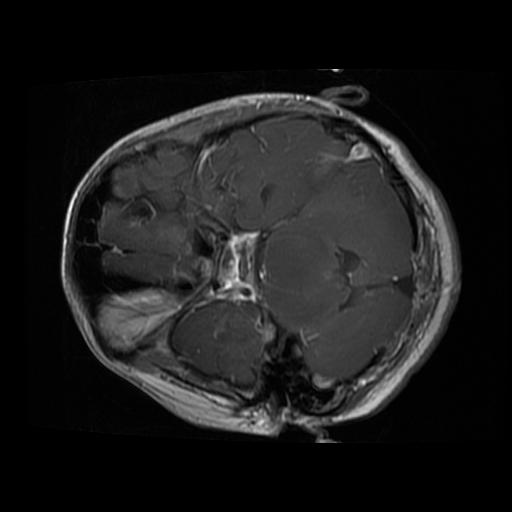glioma: (172, 304, 266, 383)
